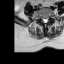CCS_normal: (44, 15, 46, 25)
LFS_stenosis: (48, 13, 50, 20)
LLS_normal: (46, 15, 48, 24)
RFS_stenosis: (40, 14, 42, 21)
RLS_normal: (42, 15, 44, 24)
